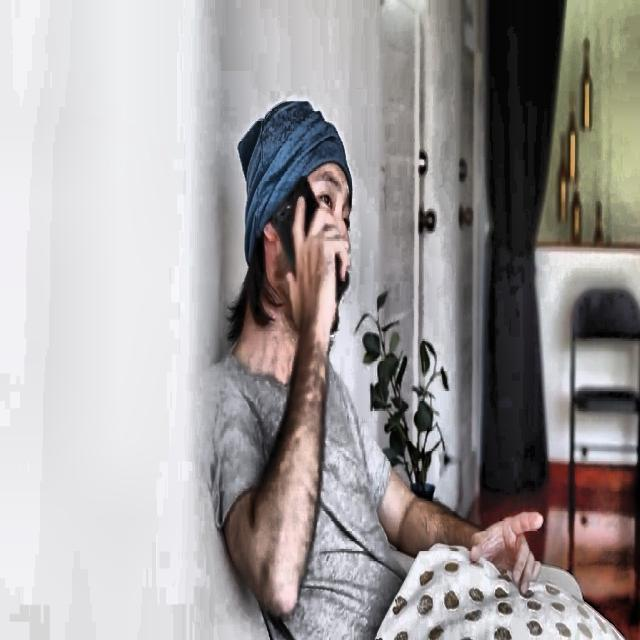Phone: (271, 173, 351, 322)
